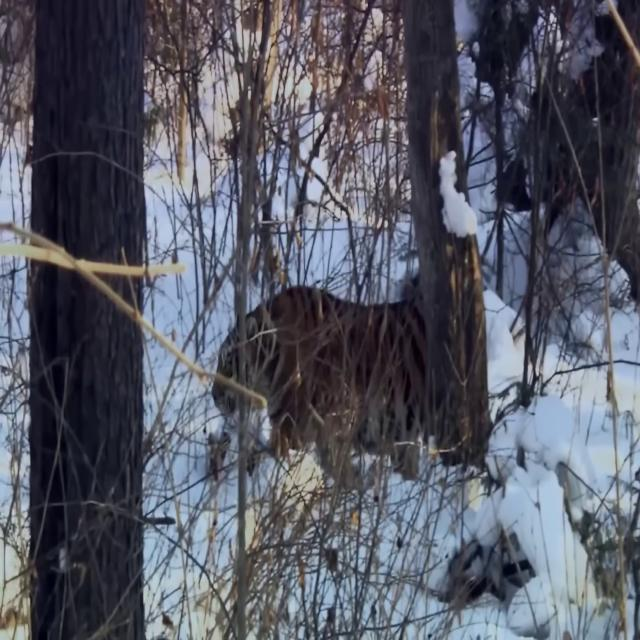tiger: (204, 226, 505, 474)
